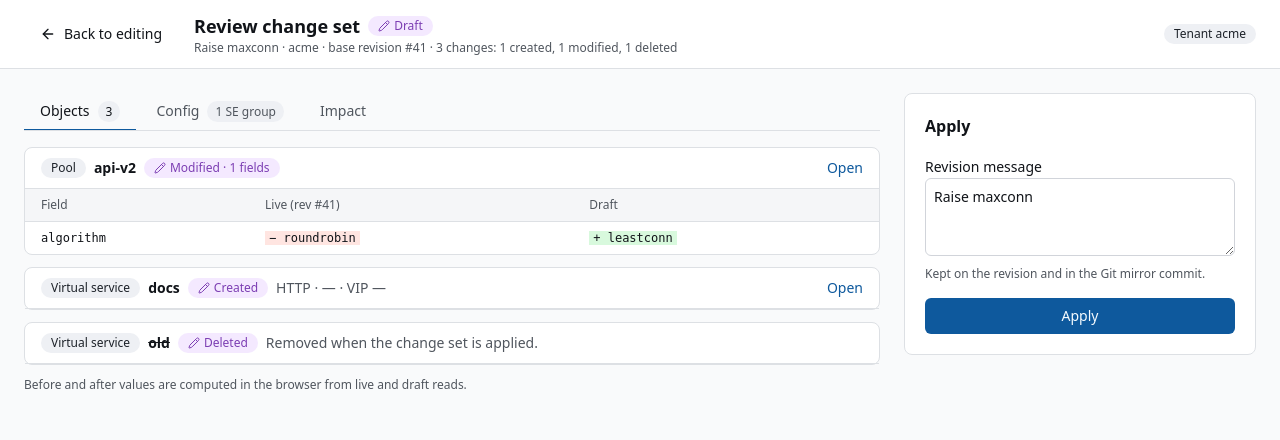
review screen › applies and shows the stages as the job runs
The image size is (1280, 440).
What coordinates should you click on to do the following:
click the button "Apply"
I would click on:
 (1080, 316)
Its box is left=925, top=298, right=1235, bottom=334.
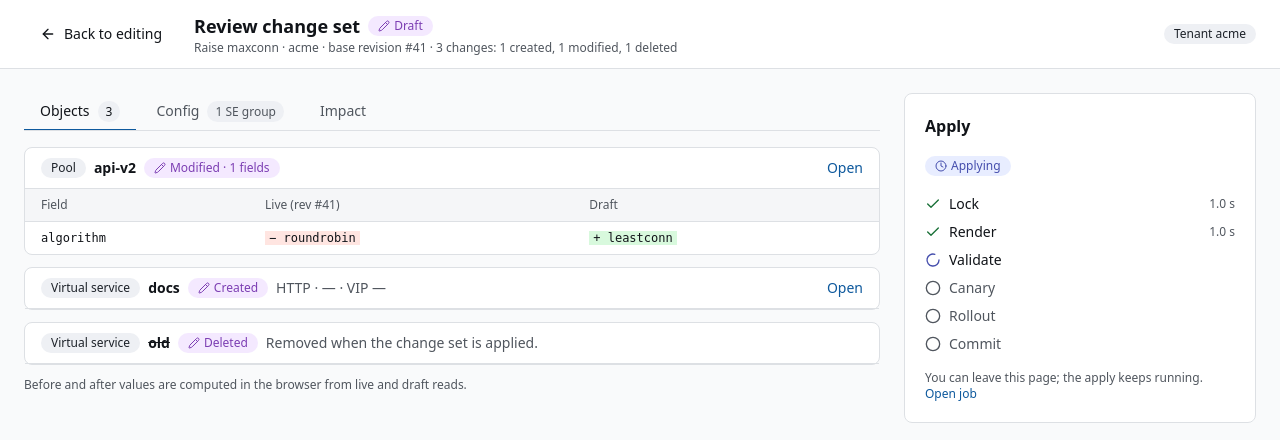
Now the list named "Apply progress" is shown, box left=925, top=194, right=1235, bottom=354
Now the text "Applying" is shown, box left=925, top=156, right=1010, bottom=176
Now the text "validate" is shown, box left=949, top=250, right=1002, bottom=270
